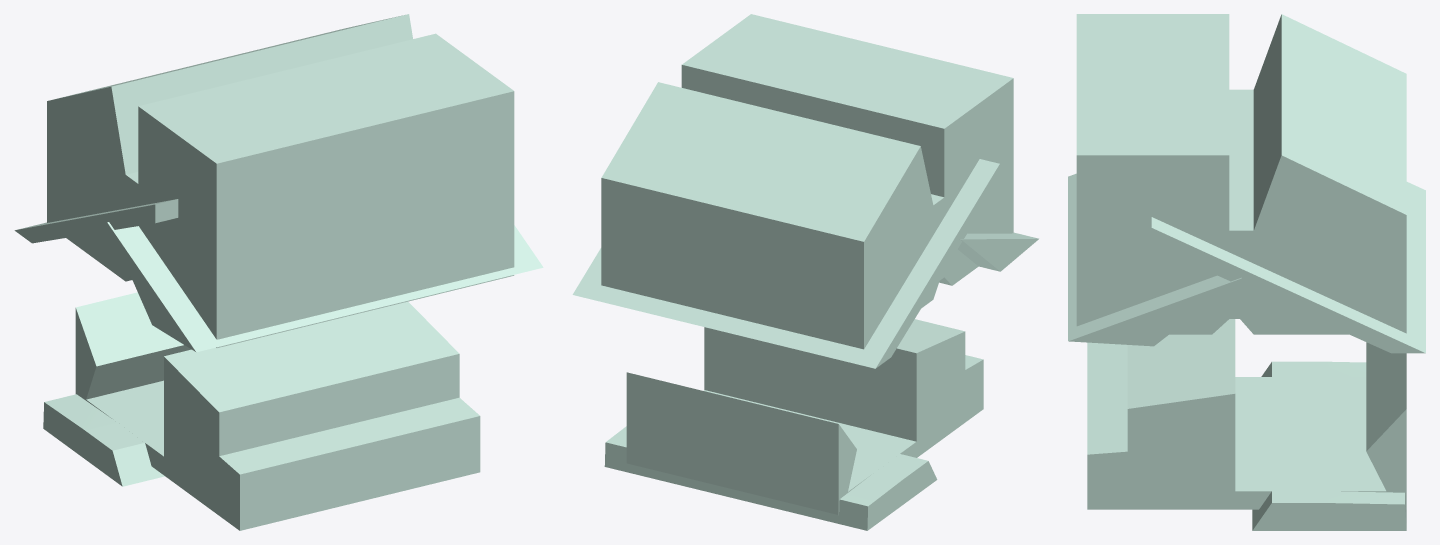
The picture shows the model from 3 angles, left to right: view 1: azimuth 30°, elevation 25°; view 2: azimuth 150°, elevation 25°; view 3: azimuth 270°, elevation 25°; orthographic projection. The views are drawn at different scales.
Visible parts, largest first — view 1: Renderer Node; view 2: Renderer Node; view 3: Renderer Node.
Part boxes in pixels (box(x1,y1,x2,y2)): Renderer Node: box(14, 14, 543, 530); Renderer Node: box(572, 14, 1038, 530); Renderer Node: box(1068, 14, 1425, 530).
Bounding box in the file's own units: 1.42 × 1.52 × 1.3.
